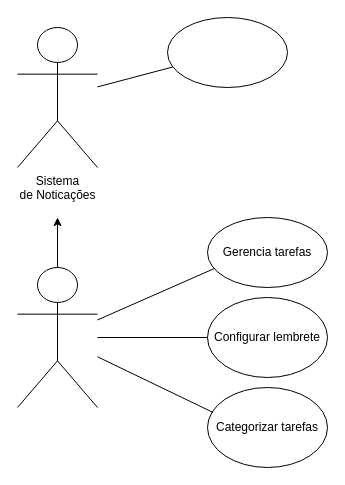
Some shapes in this 345 by 485 pixel diagram are drawn without their labels. The centre of each missing label's shape, as x and y in pixels:
"Ativar notificação" belongs at (227,52).
"Usuario" belongs at (57,337).
